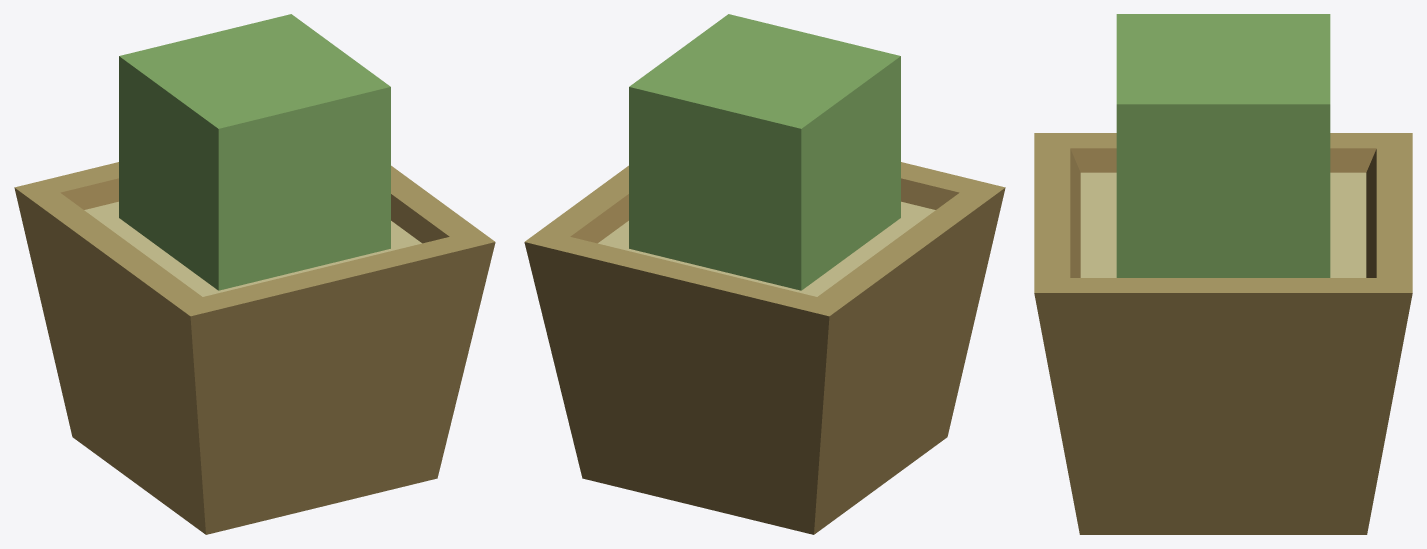
Rendered from vegetation_004.glb.
3 renders of one model, left to right at view 1: azimuth 30°, elevation 25°; view 2: azimuth 150°, elevation 25°; view 3: azimuth 270°, elevation 25°, orthographic. The views are drawn at different scales.
Parts seen in each view (by area): view 1: vegetation_004; view 2: vegetation_004; view 3: vegetation_004.
Part boxes in pixels (box(x1,y1,x2,y2)): vegetation_004: box(14, 14, 495, 534); vegetation_004: box(524, 14, 1005, 534); vegetation_004: box(1034, 14, 1412, 534).
Bounding box in the file's own units: 1.06 × 1.28 × 1.06.
1 material, 1 textured.
